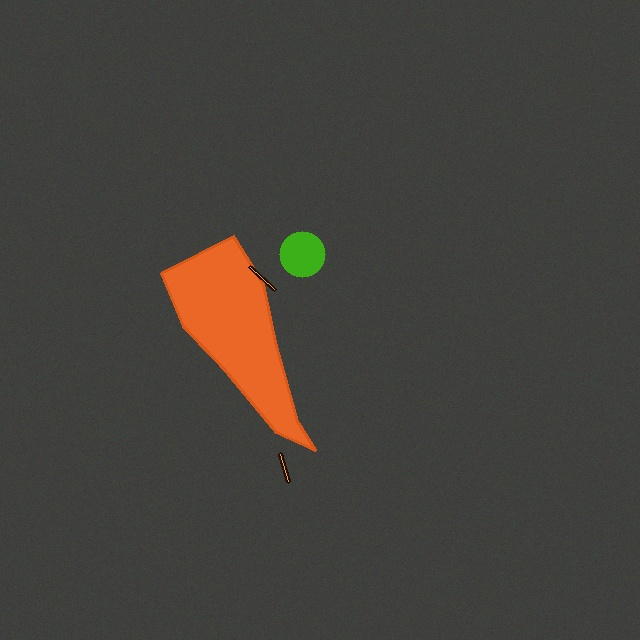Damaged_Carrot: (153, 228, 323, 458)
